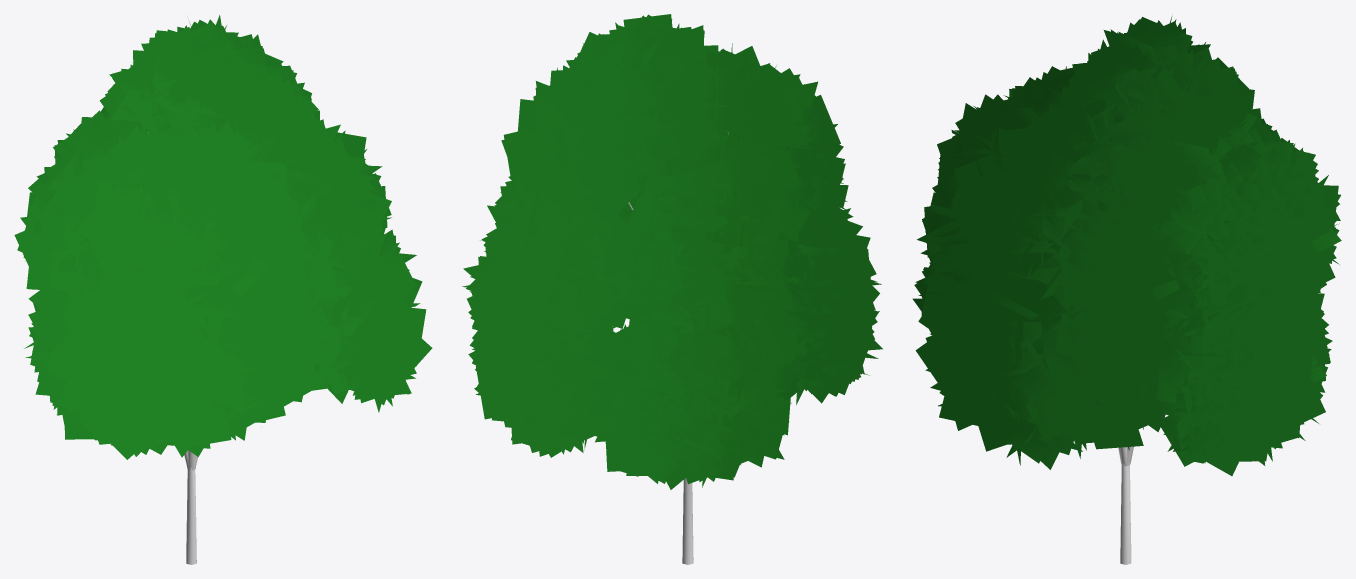
File: natural_environment_tree_model_cartoon_style.glb
3 renders of one model, left to right at view 1: azimuth 30°, elevation 25°; view 2: azimuth 150°, elevation 25°; view 3: azimuth 270°, elevation 25°, orthographic. The views are drawn at different scales.
Visible parts, largest first — view 1: Leaves.1_2, tree.001_1; view 2: Leaves.1_2, tree.001_1; view 3: Leaves.1_2, tree.001_1.
Boxes of the visible parts, bbox=[...] form: Leaves.1_2: bbox=[14, 15, 432, 459]; tree.001_1: bbox=[148, 132, 197, 564]; Leaves.1_2: bbox=[462, 14, 882, 489]; tree.001_1: bbox=[628, 131, 741, 564]; Leaves.1_2: bbox=[912, 16, 1341, 475]; tree.001_1: bbox=[1118, 446, 1133, 564].
Size of the model in its own units: 3.42 by 5.09 by 3.6.
